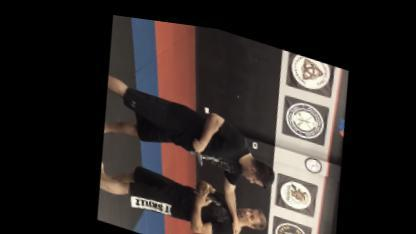knife: (184, 130, 204, 160)
